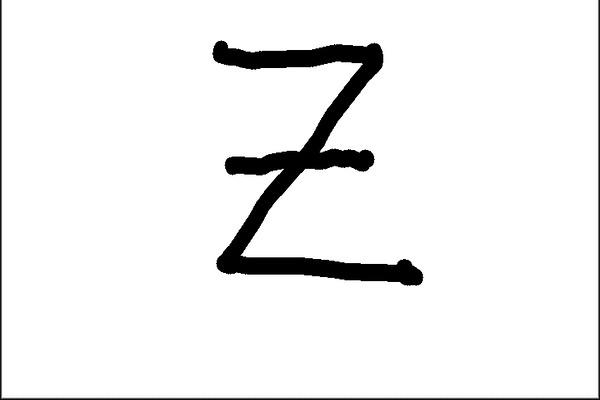Z: (191, 27, 432, 296)
